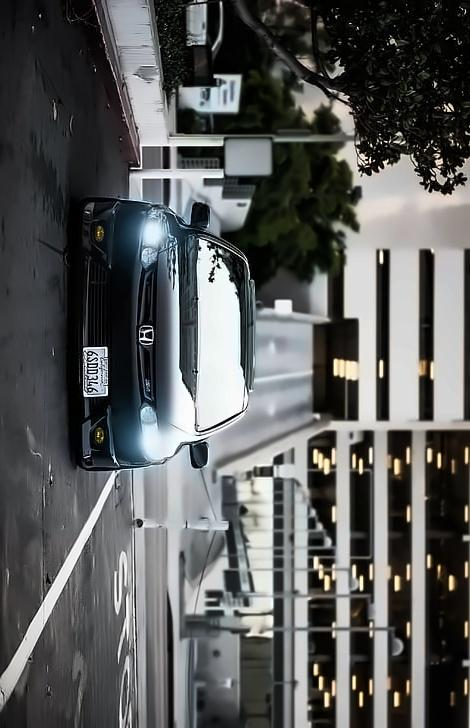Car hood: (151, 229, 201, 441)
Front bumper: (65, 186, 141, 480)
Headlight - -L-: (133, 395, 170, 467)
Headlight - -R-: (138, 198, 174, 272)
Side mirror - -L-: (183, 435, 216, 475)
Side mirror - -R-: (185, 199, 215, 237)
